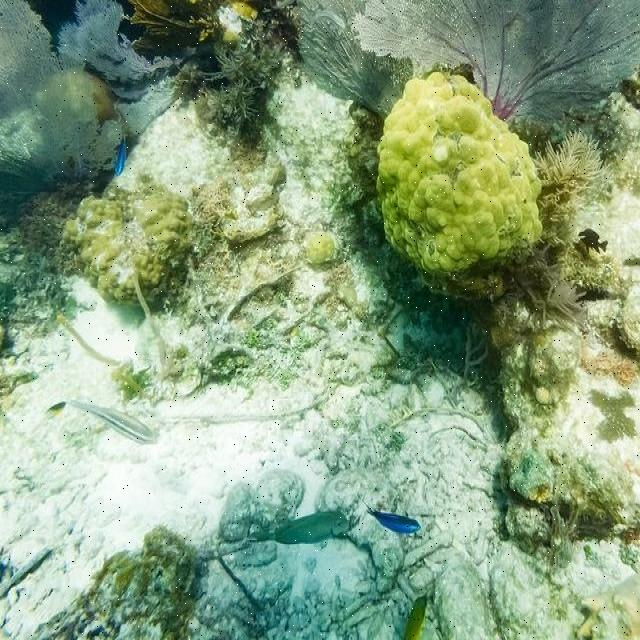aquatic plants: (376, 72, 607, 311)
fish: (245, 512, 351, 543), (358, 496, 420, 535)
